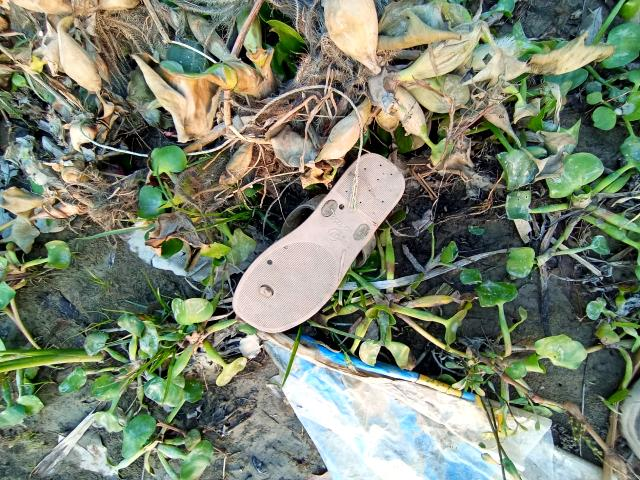sandal: (207, 122, 422, 356)
